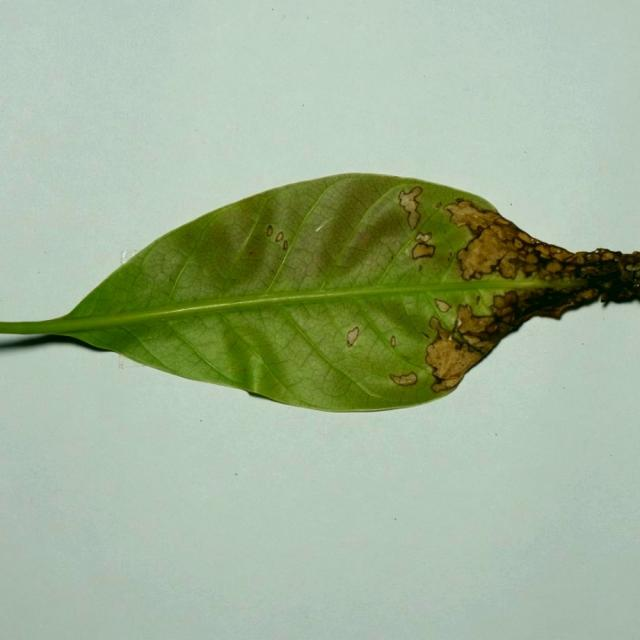Anthracnose: (396, 192, 429, 232)
Mango: (0, 174, 639, 415)
